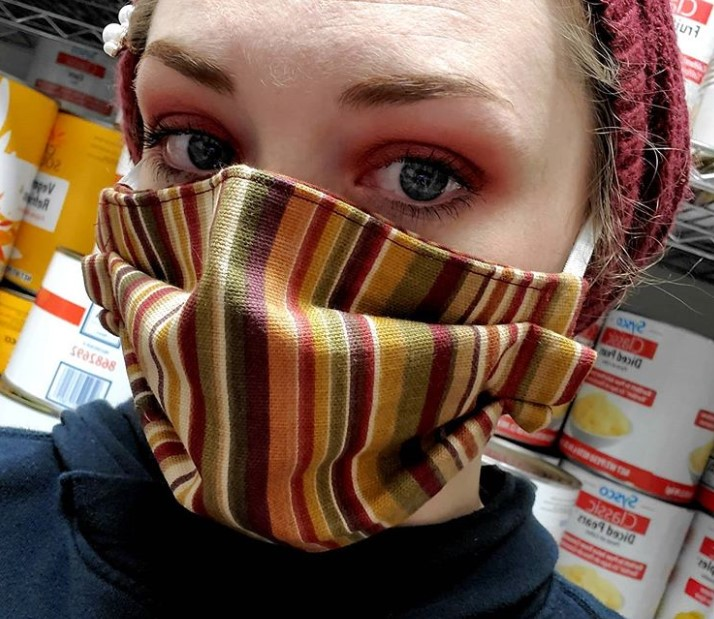face_with_mask: (80, 11, 687, 558)
